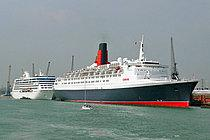Ship: (50, 32, 202, 112), (10, 68, 61, 103)
